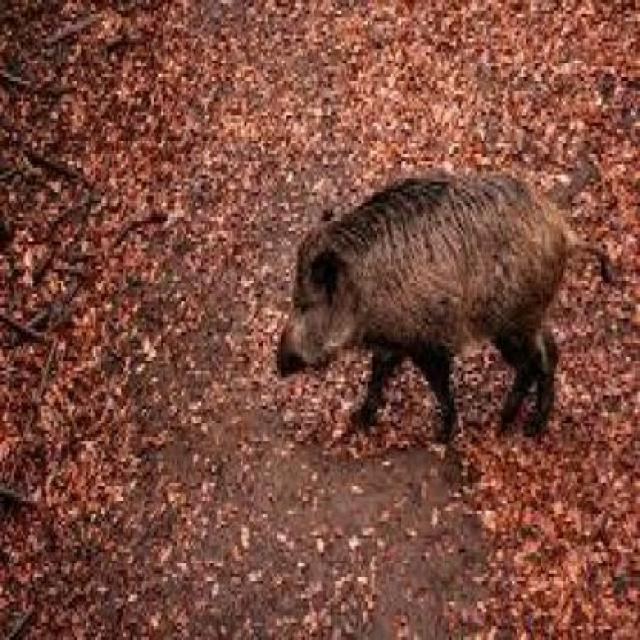wildboar: (272, 165, 628, 461)
